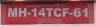character: (7, 7, 18, 17), (53, 7, 62, 18), (18, 7, 27, 17), (37, 7, 46, 17), (73, 7, 81, 17), (82, 7, 89, 18), (46, 7, 53, 17), (62, 7, 69, 17), (31, 7, 37, 18)
